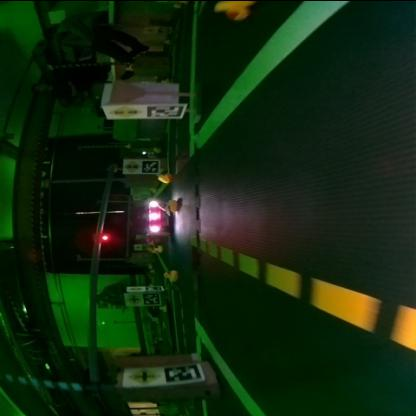Duckie: (214, 1, 255, 19), (158, 172, 170, 182), (164, 270, 174, 281), (167, 200, 177, 210), (154, 245, 160, 250)
Duckiebot: (136, 199, 170, 235)
Intersection sign: (125, 366, 161, 382), (125, 295, 141, 304)
QR code: (164, 364, 202, 380), (148, 104, 184, 116), (142, 292, 160, 302), (141, 160, 159, 170), (145, 286, 161, 290)
Signal sign: (106, 105, 144, 117), (124, 160, 138, 172)
Traffic light: (96, 232, 110, 240)
